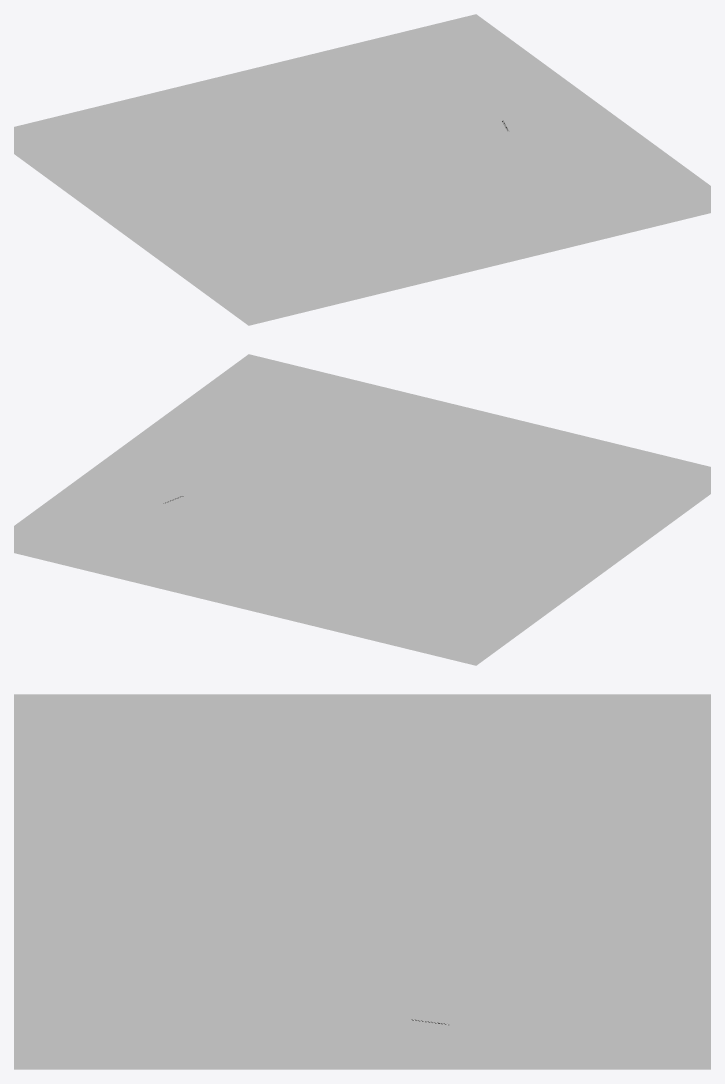
Rendered from 2022_september_open_cw.dae.
3 renders of one model, top to bottom at view 1: azimuth 30°, elevation 25°; view 2: azimuth 150°, elevation 25°; view 3: azimuth 270°, elevation 25°, orthographic. The views are drawn at different scales.
Visible parts, largest first — view 1: field, wall, road, il, ol, cl; view 2: field, wall, road, il, ol, cl; view 3: field, wall, road, il, ol, cl.
Boxes of the visible parts, x1,y1,x2,y2 form: field: (42,41,682,298); wall: (14,14,710,325); road: (93,118,582,264); il: (91,117,585,264); ol: (121,129,555,252); cl: (107,123,569,258); field: (42,381,682,638); wall: (14,354,710,665); road: (139,443,579,632); il: (137,442,581,633); ol: (166,455,552,625); cl: (152,449,565,629); field: (14,734,710,1029); wall: (14,694,710,1069); road: (51,750,673,1029); il: (48,749,676,1029); ol: (92,767,633,1029); cl: (71,758,653,1029).
Bounding box in the file's own units: 17.84 × 15.69 × 1.
